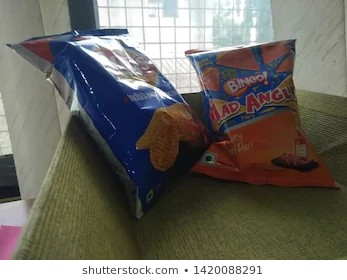lays-small: (17, 12, 200, 221)
